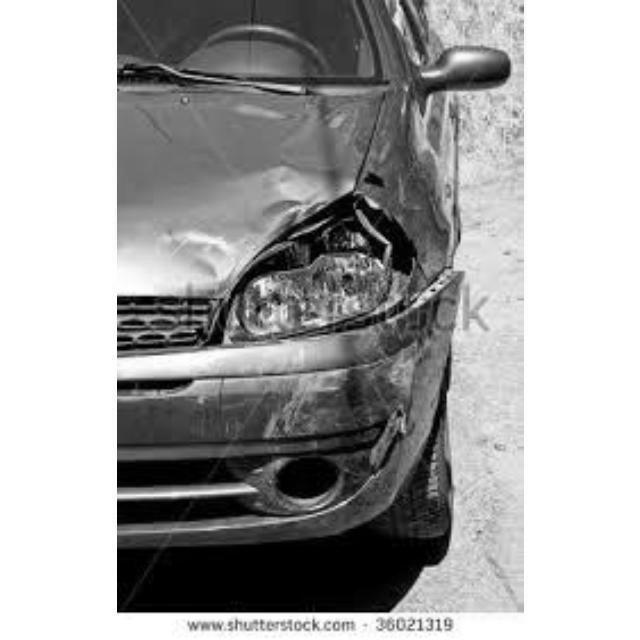Headlight-damage: (187, 216, 444, 364)
bonnet-dent: (128, 87, 380, 244)
front-bumper-dent: (248, 342, 438, 514)
